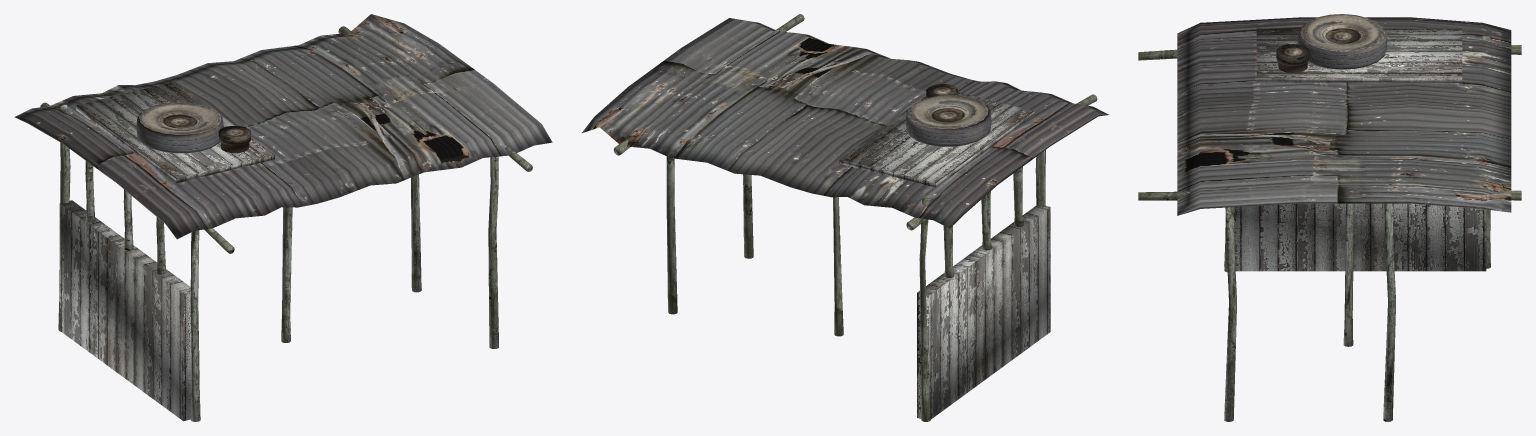
The model's file is shanty10.fbx.
3 views of the same model, side by side, from view 1: azimuth 30°, elevation 25°; view 2: azimuth 150°, elevation 25°; view 3: azimuth 270°, elevation 25° (orthographic). The views are drawn at different scales.
Visible parts, largest first — view 1: U3DMesh; view 2: U3DMesh; view 3: U3DMesh.
Boxes of the visible parts, x1=… form: U3DMesh: x1=14, y1=14, x2=552, y2=421; U3DMesh: x1=582, y1=14, x2=1108, y2=421; U3DMesh: x1=1138, y1=14, x2=1521, y2=421.
Bounding box in the file's own units: 151 × 96.39 × 129.
